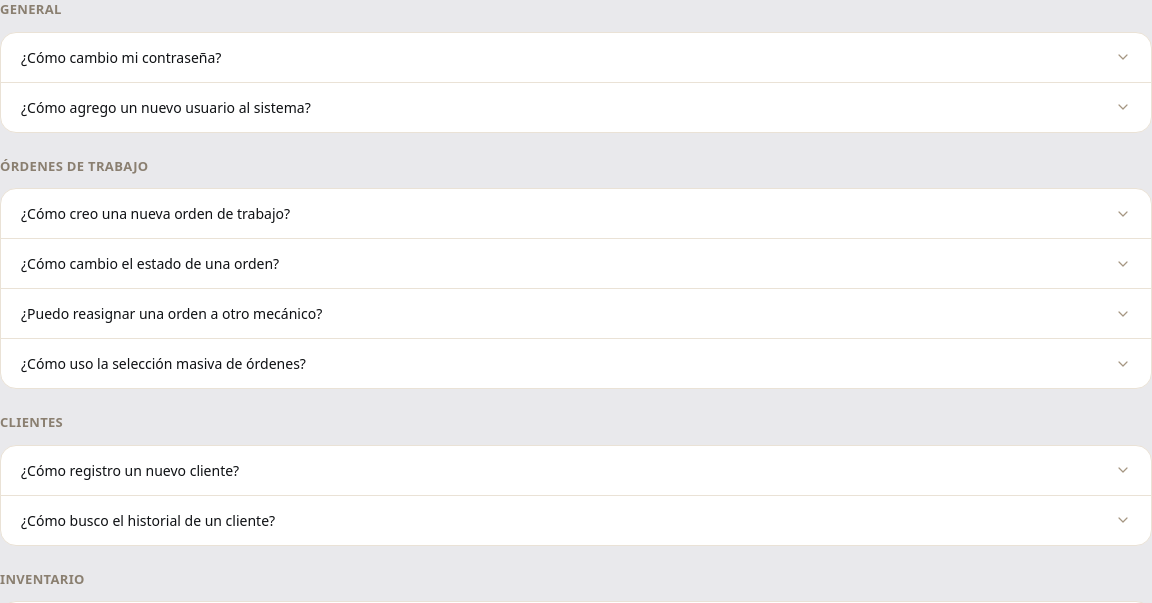
Scenario: FaqAccordion › clicking a question reveals the answer and sets aria-expanded
Click the button "¿Cómo cambio mi contraseña?": [121, 57] box [1, 32, 1151, 82]
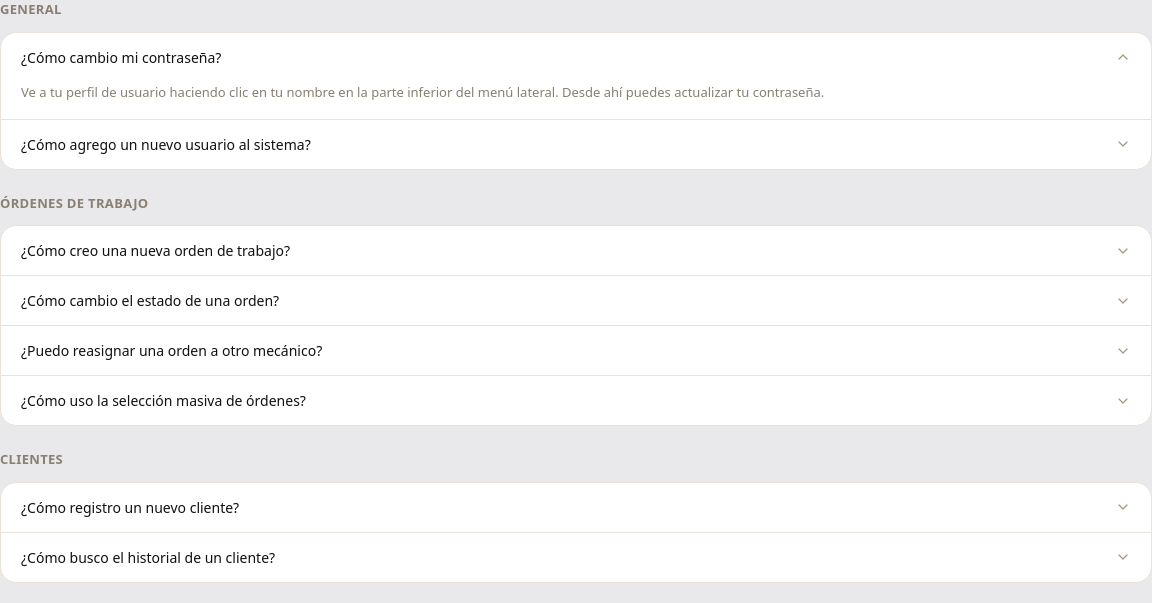
expect the button "¿Cómo cambio mi contraseña?" is expanded: met, box [1, 32, 1151, 82]
expect the text "perfil de usuario" is shown: met, box [21, 82, 824, 100]
